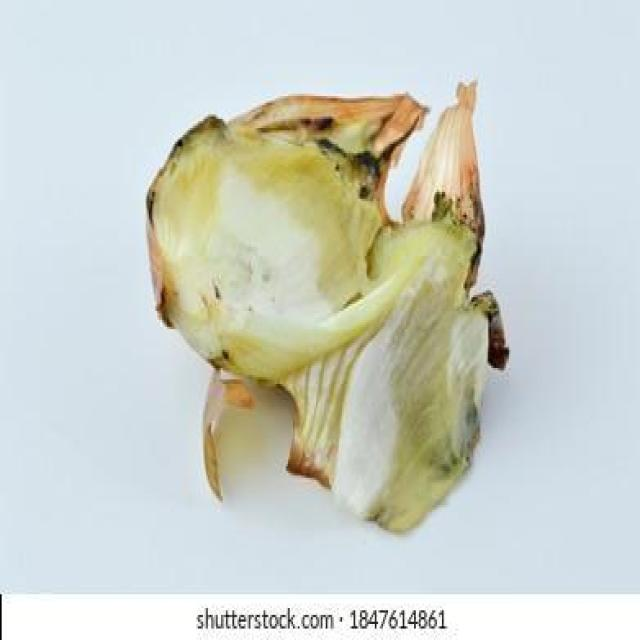Onion: (147, 96, 506, 535)
